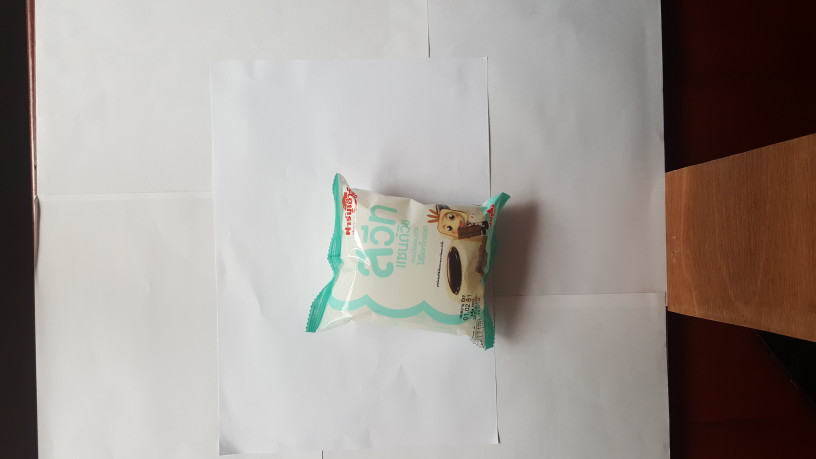farmhouse-sweetsandwich-chocolate: (301, 169, 509, 352)
